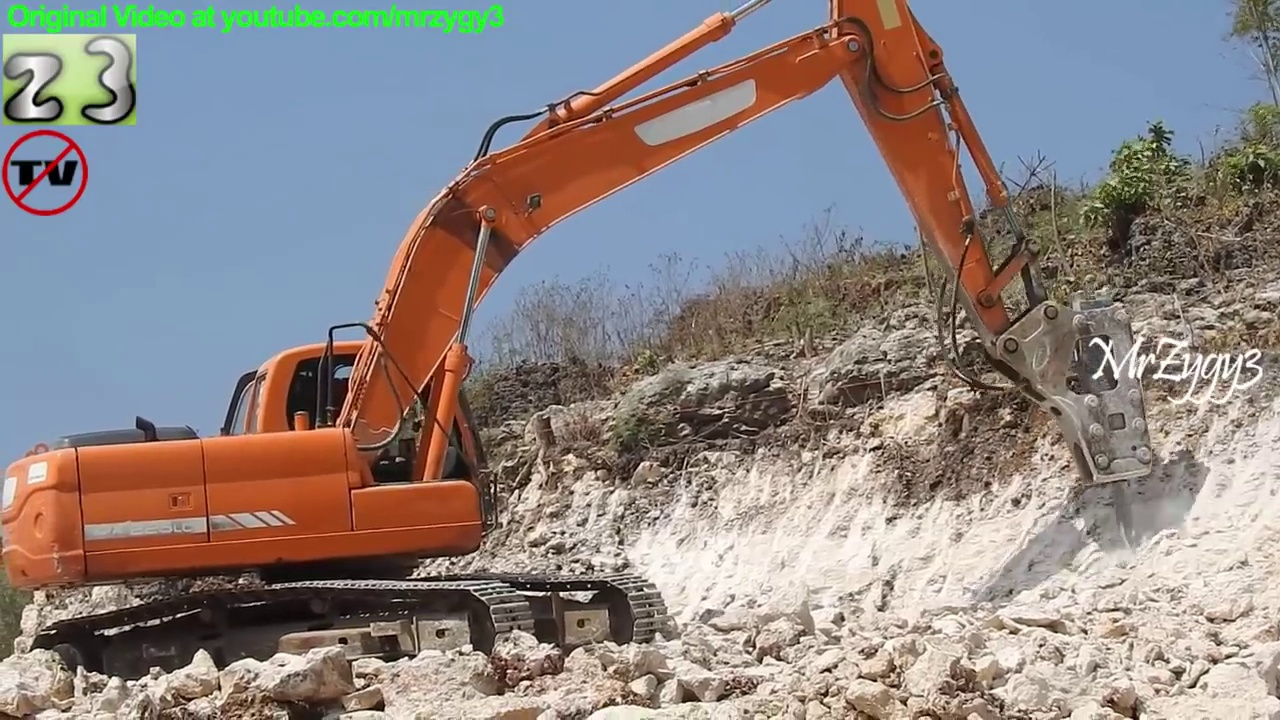excavator breaker: (1, 1, 1165, 703)
